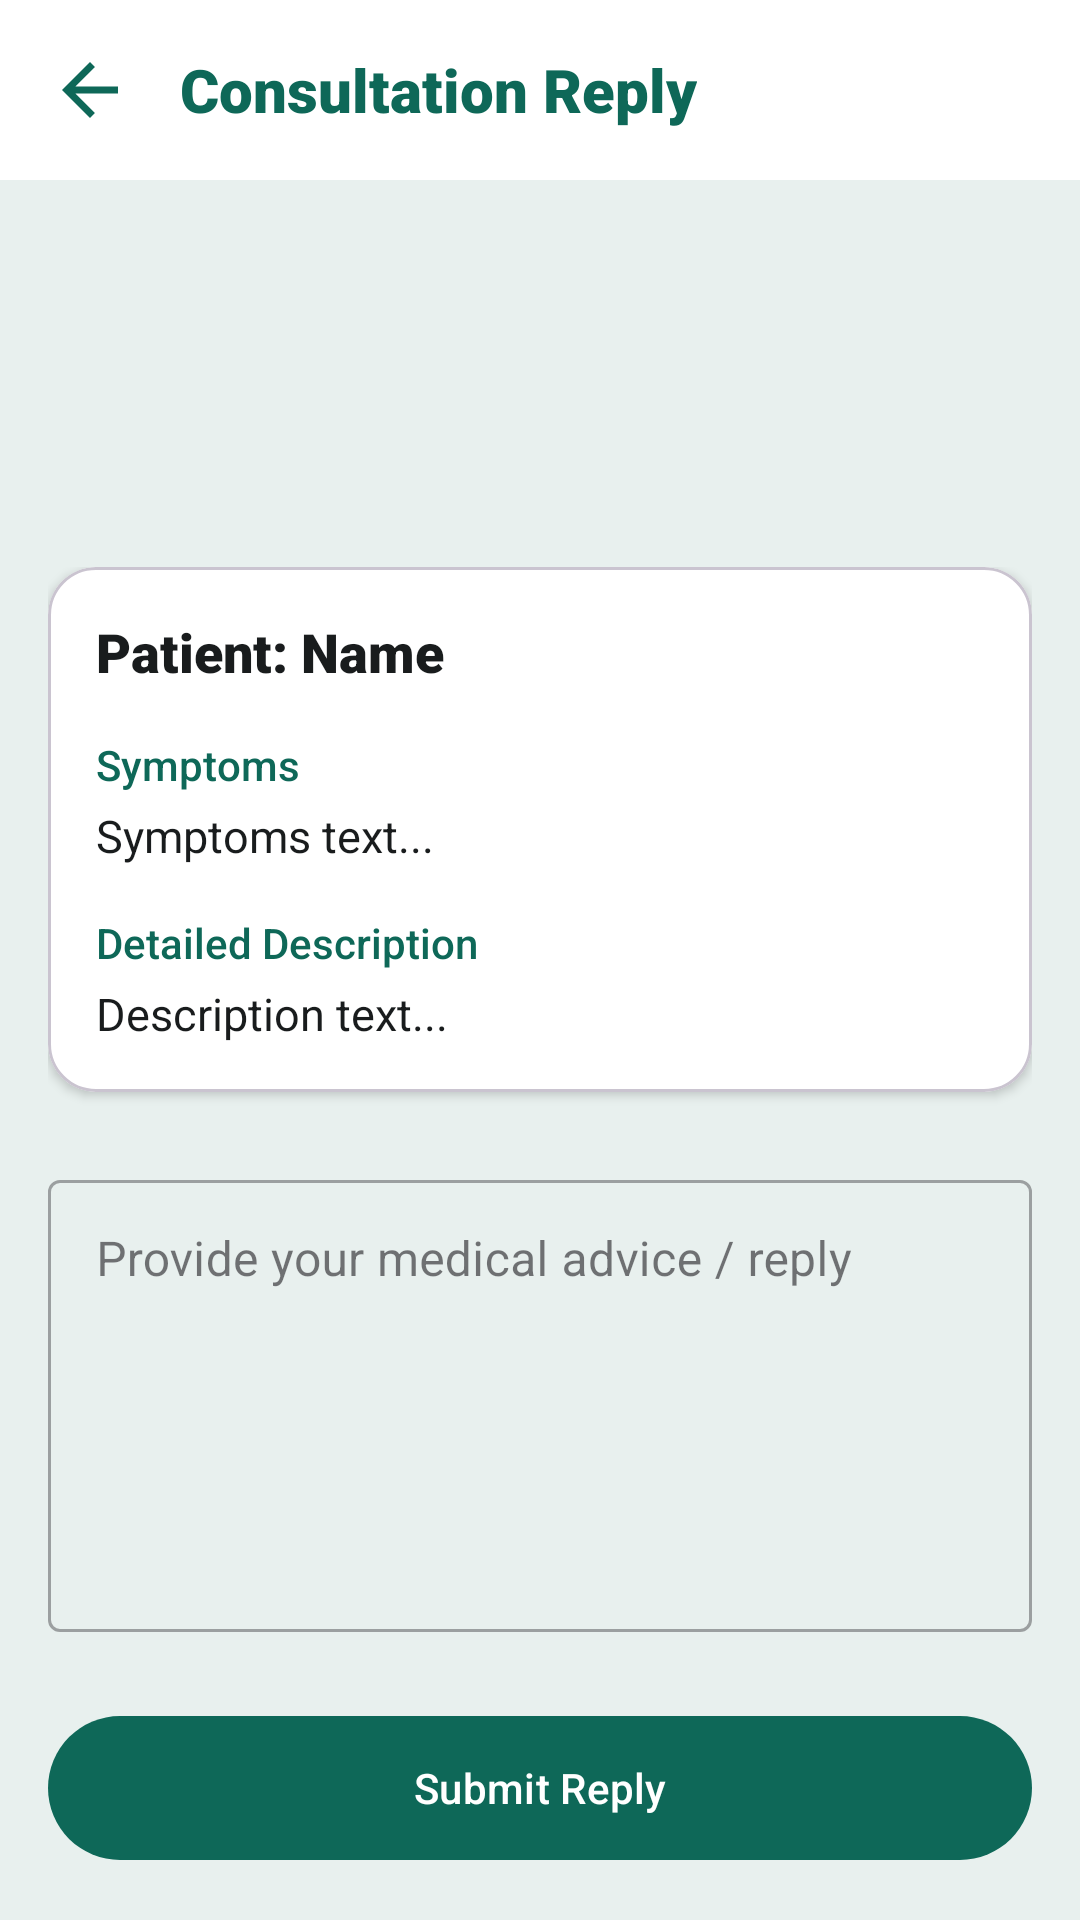

Named icons in this screenshot (1080×1920) and their bounding boxes, detection(x1, y1, x2, y2):
back: detection(62, 62, 118, 118)
